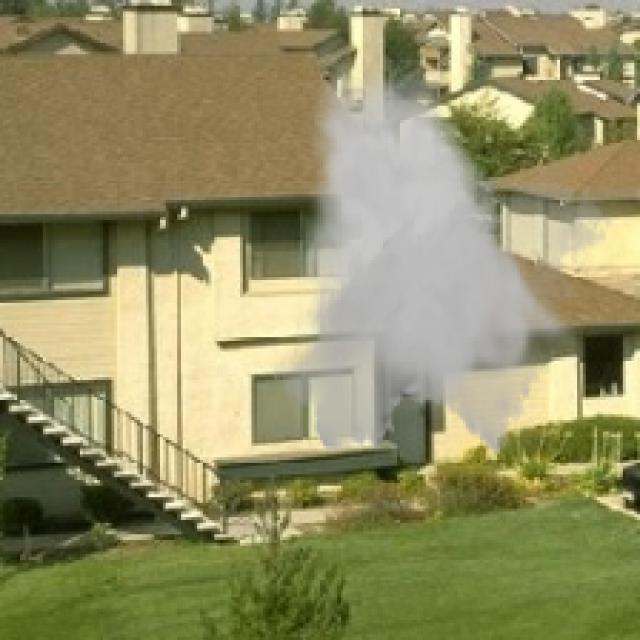Smoke: (272, 51, 614, 463)
